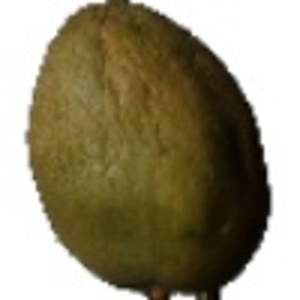mamão: (20, 4, 274, 295)
